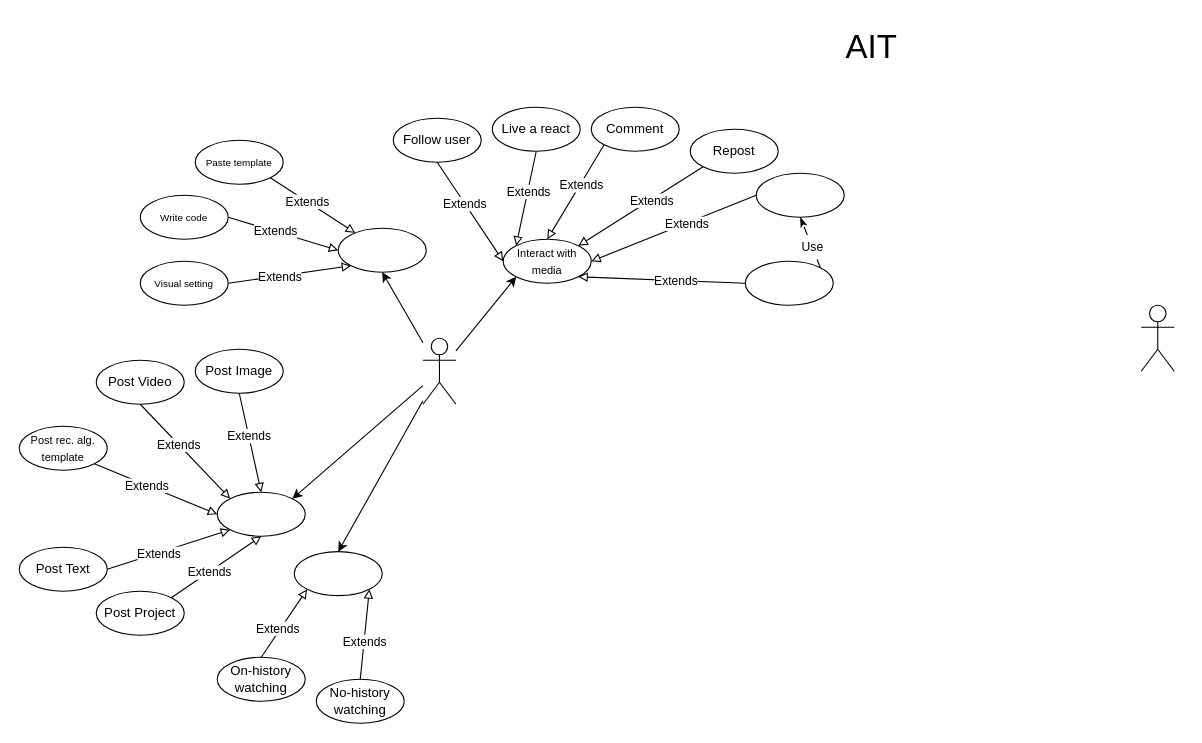
Image size: 1202x743. Some labels were removed from this diagram. Each missing label, with the box of its shape:
Change of rec. algorithm: (337, 227, 426, 272)
External Platform: (1140, 304, 1174, 371)
Post Media: (216, 491, 305, 536)
Save in playlist: (755, 172, 844, 217)
Share playlist: (744, 260, 833, 305)
User: (422, 337, 456, 404)
Watch media: (293, 551, 382, 596)
